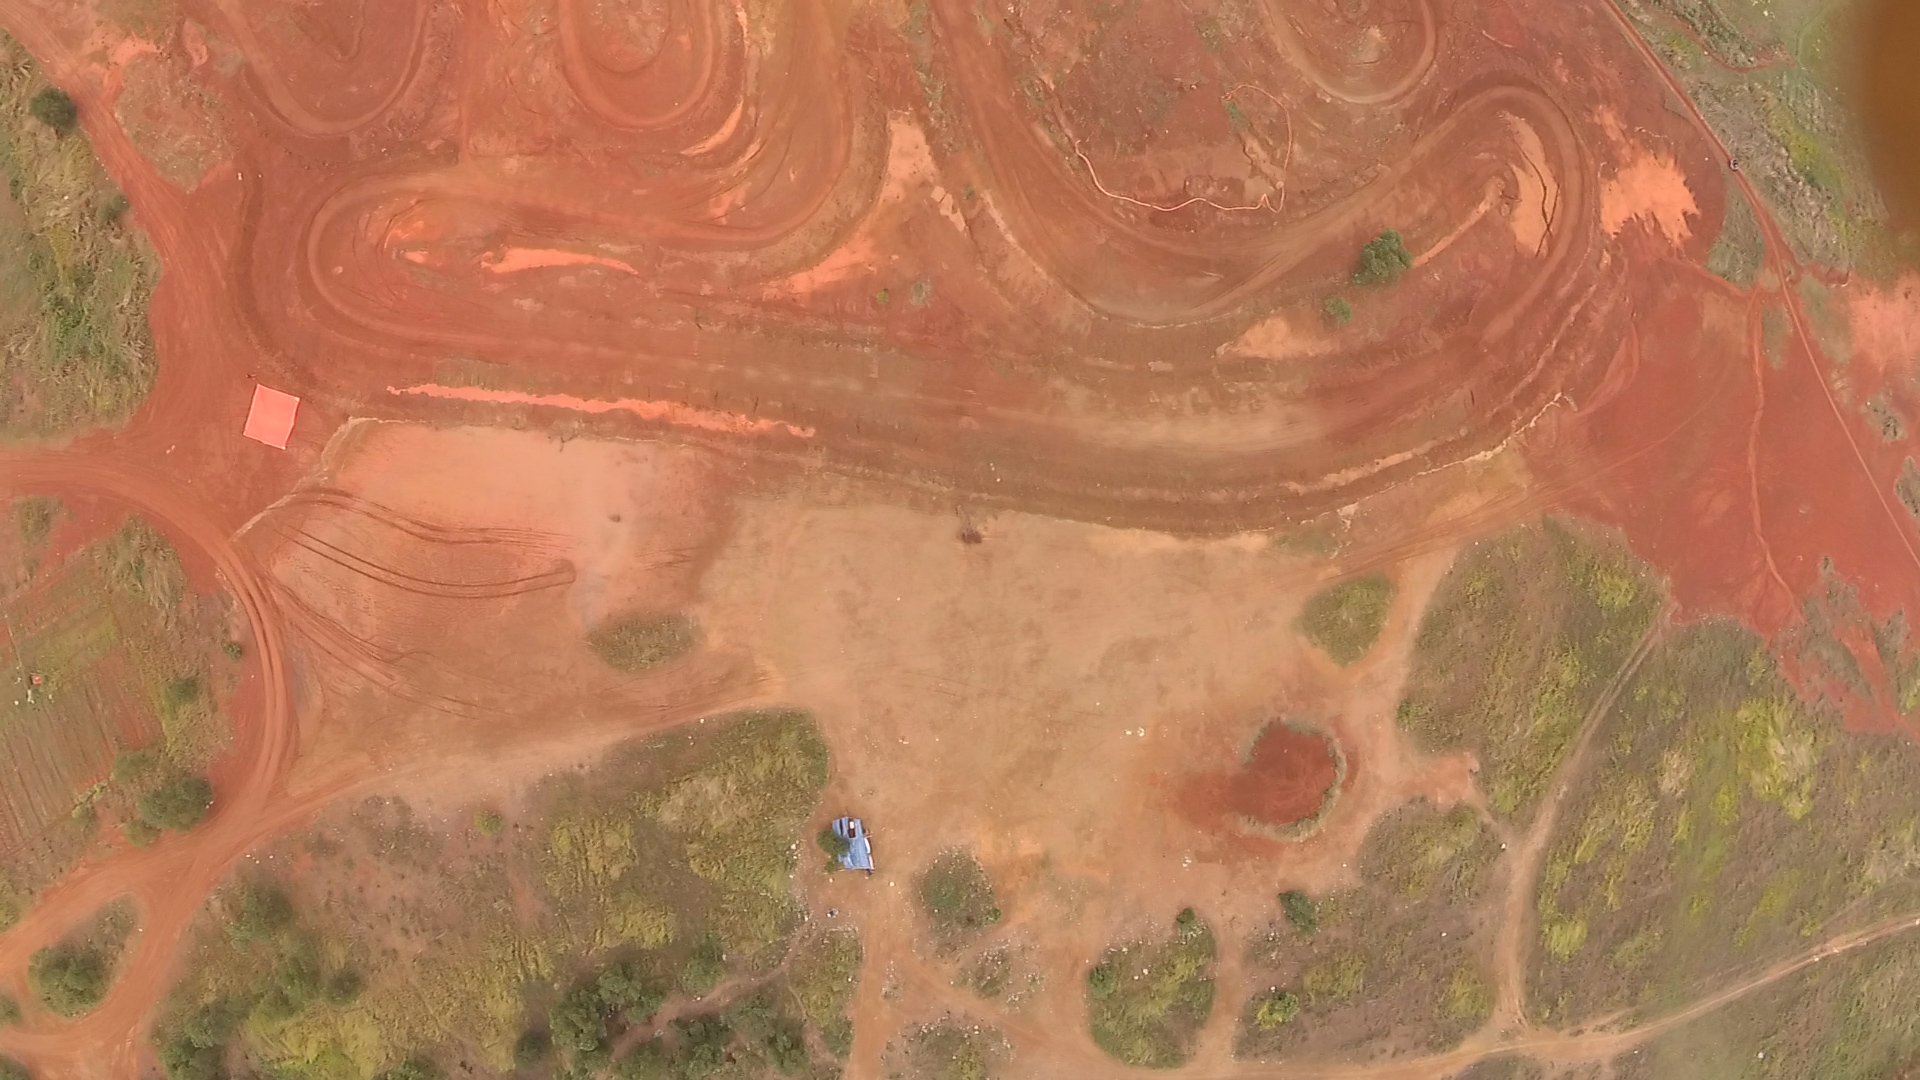Orange Dropzone: (237, 381, 305, 452)
